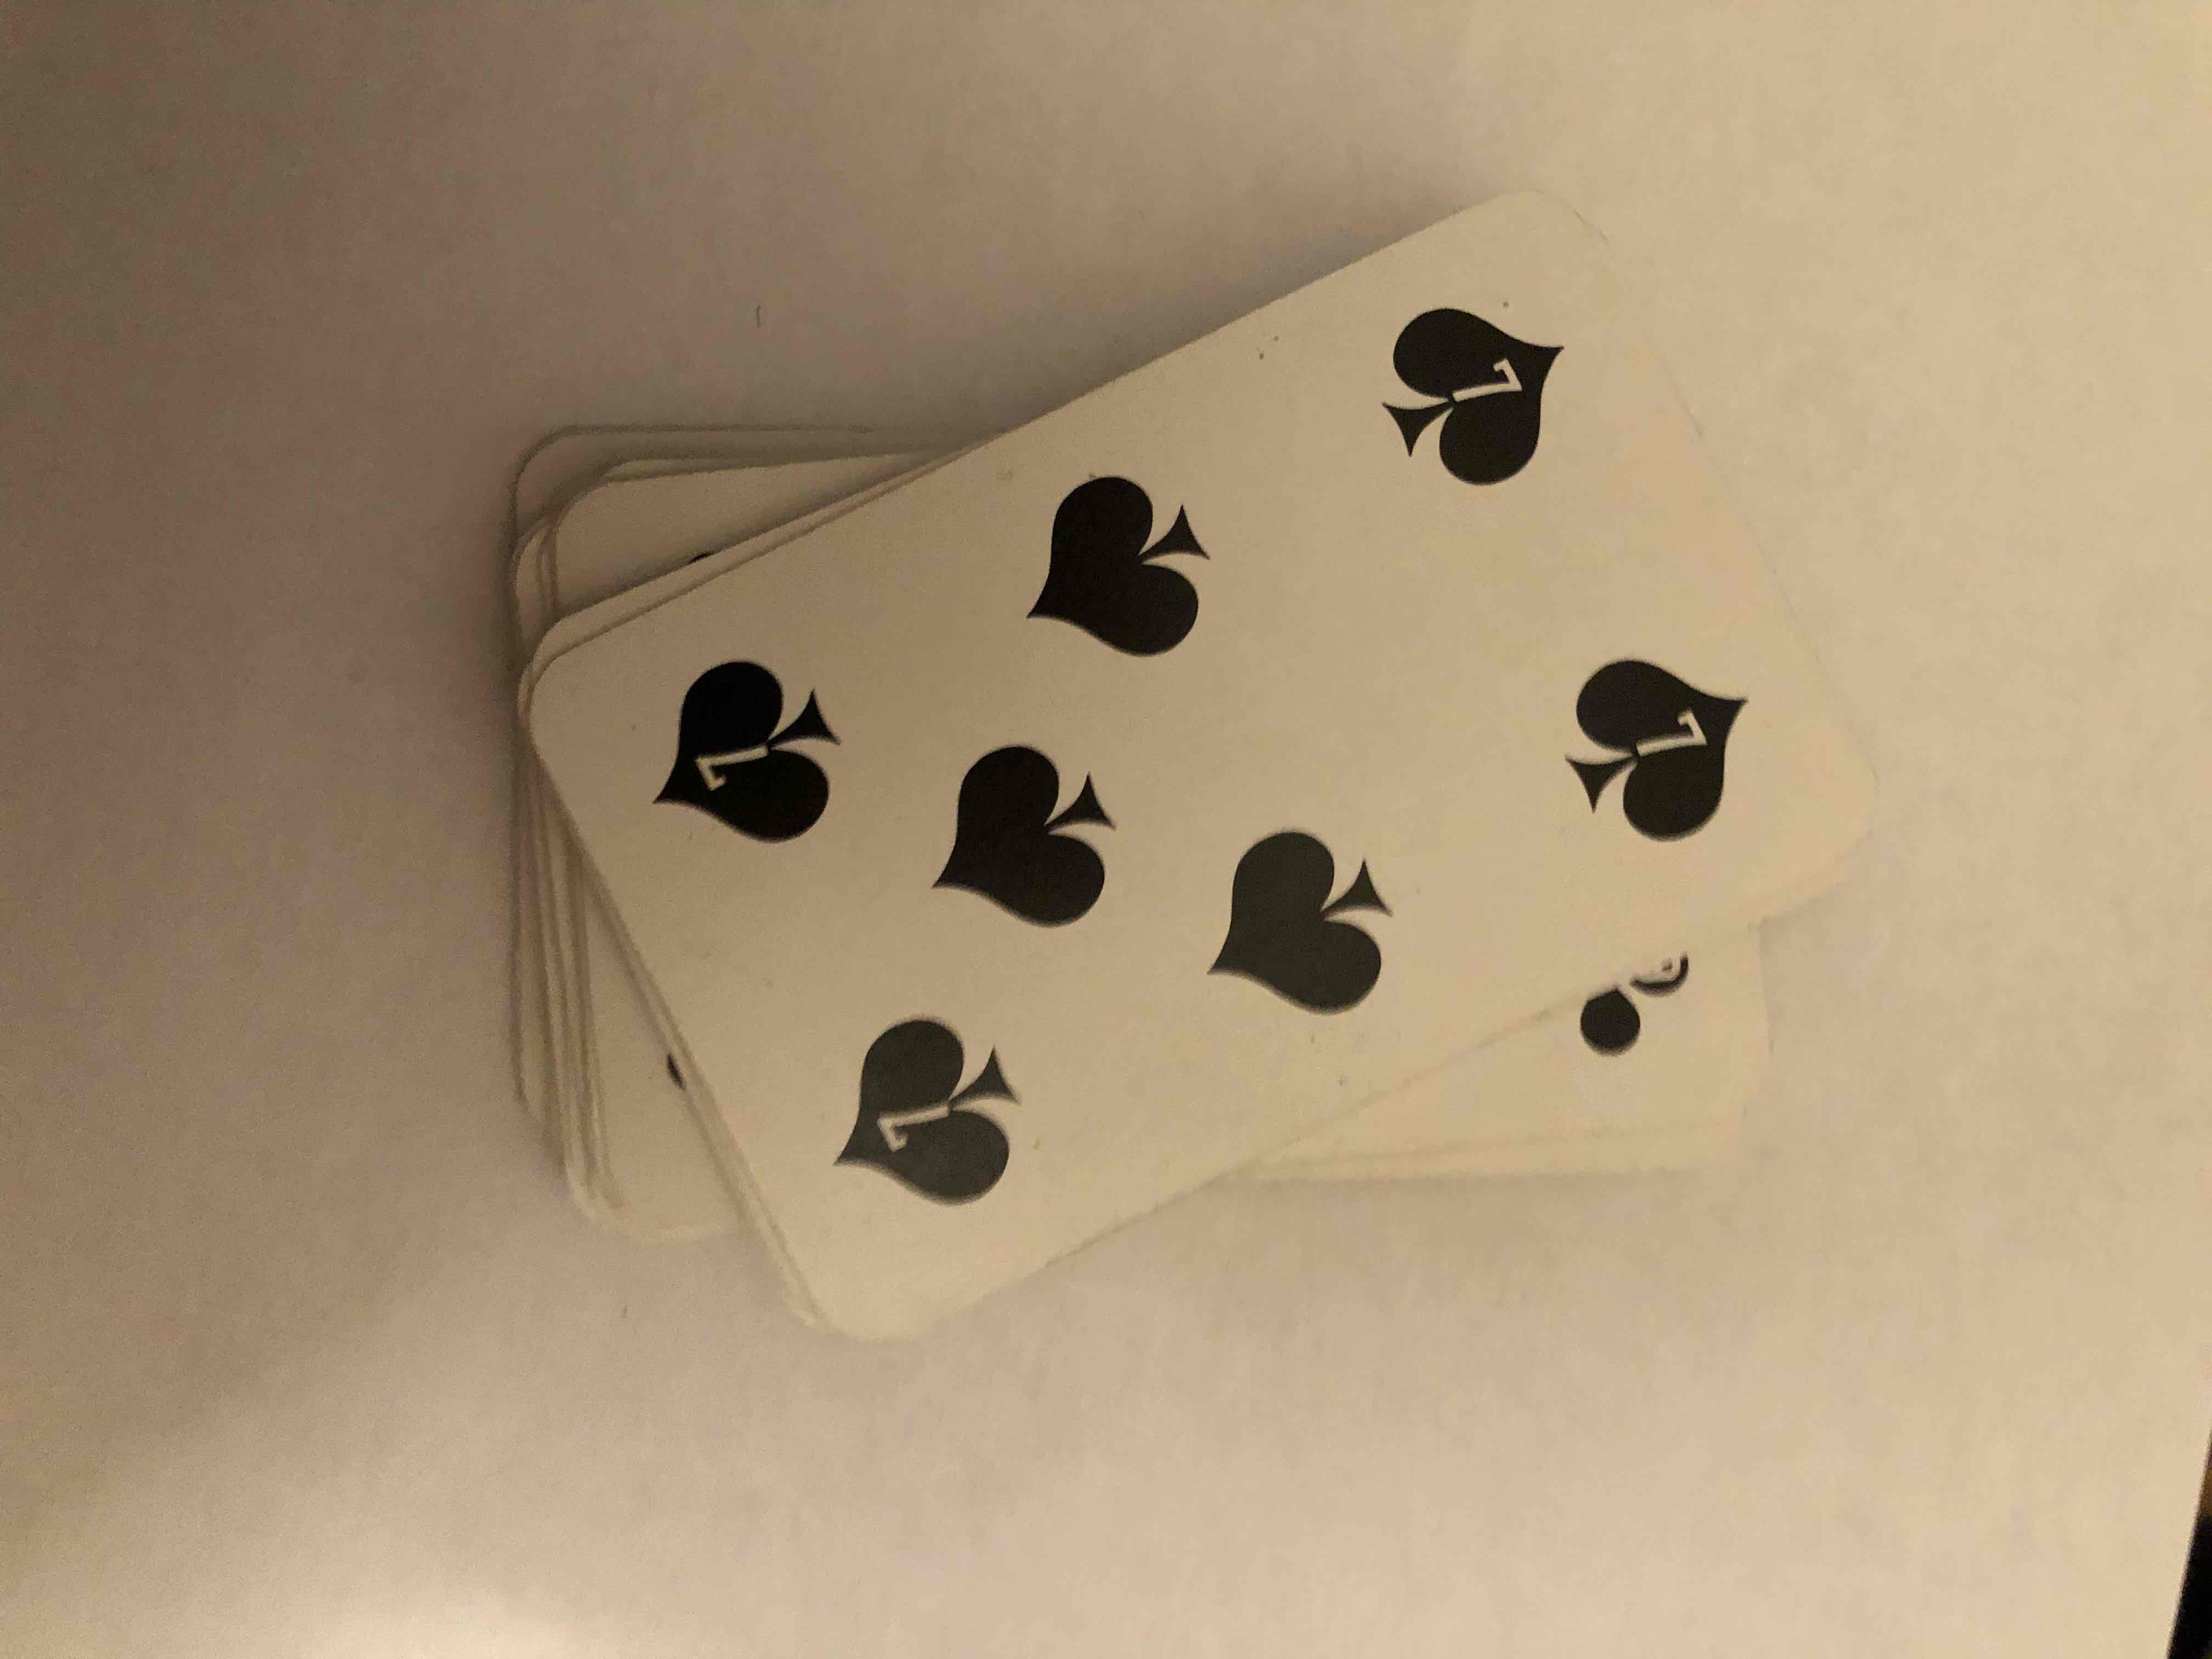spades7: (660, 272, 1871, 1239)
